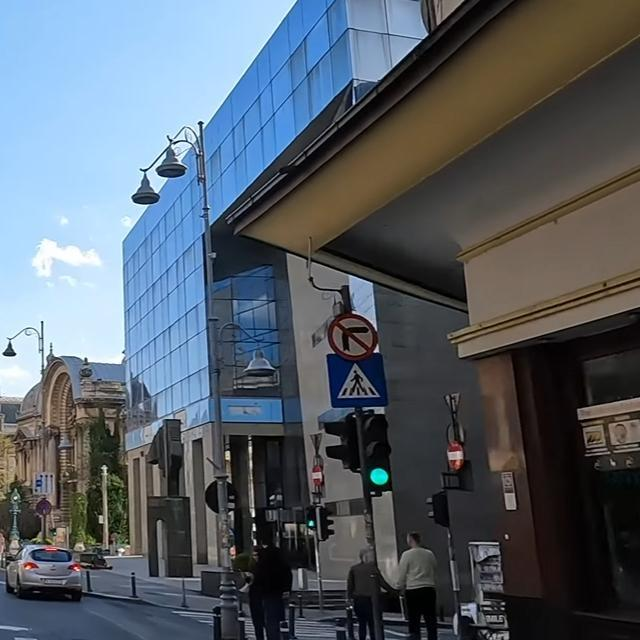info_crosswalk: (328, 353, 388, 408)
